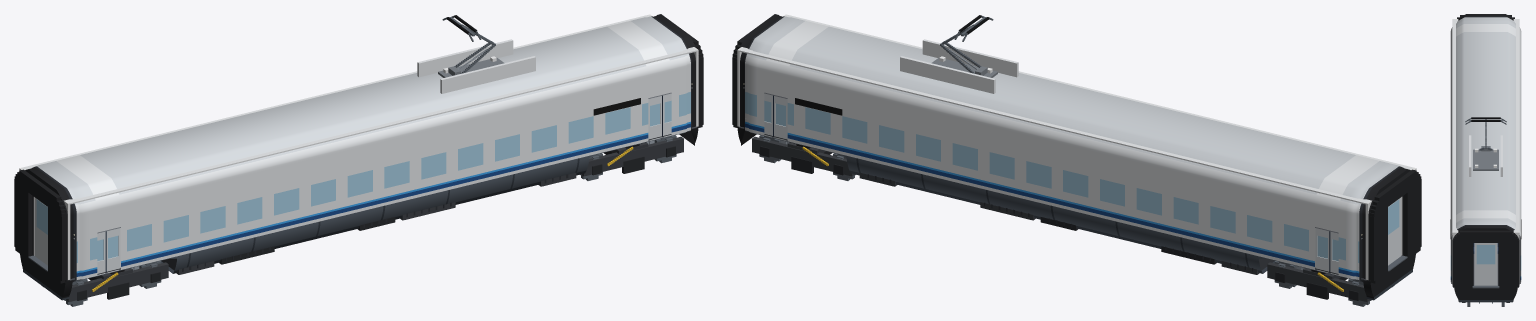
Rendered from avelia_car.obj.
3 views of the same model, side by side, from view 1: azimuth 30°, elevation 25°; view 2: azimuth 150°, elevation 25°; view 3: azimuth 270°, elevation 25° (orthographic). The views are drawn at different scales.
Parts seen in each view (by area): view 1: SHELL, SHELL_ceiling, SHELL_diaphragm, SHELL_pantograph, BOGEY_REAR, BOGEY_FRONT, FRAME, CONNECTING_DOOR_1_CG_CR_TOGGLE_TL_0.98_Z, SHELL_end, EXTERNAL_DOOR_10_CG_DR2_TOGGLE_TL_-0.44_X, EXTERNAL_DOOR_5_CG_DR1_TOGGLE_TL_0.44_X; view 2: SHELL, SHELL_ceiling, SHELL_diaphragm, SHELL_pantograph, BOGEY_REAR, BOGEY_FRONT, FRAME, CONNECTING_DOOR_1_CG_CR_TOGGLE_TL_0.98_Z, SHELL_end, EXTERNAL_DOOR_13_CG_DL2_TOGGLE_TL_-0.44_X, EXTERNAL_DOOR_8_CG_DL1_TOGGLE_TL_0.44_X; view 3: SHELL, SHELL_diaphragm, SHELL_ceiling, SHELL_pantograph, CONNECTING_DOOR_2_CG_CF_TOGGLE_TL_0.98_Z, SHELL_end, SHELL_floor, SHELL_gangway.
Part boxes in pixels (box(x1,y1,x2,y2)): SHELL: box(20, 15, 699, 300); SHELL_ceiling: box(22, 15, 696, 204); SHELL_diaphragm: box(14, 14, 703, 283); SHELL_pantograph: box(417, 15, 535, 93); BOGEY_REAR: box(66, 262, 168, 301); BOGEY_FRONT: box(581, 136, 683, 176); FRAME: box(75, 131, 689, 281); CONNECTING_DOOR_1_CG_CR_TOGGLE_TL_0.98_Z: box(35, 197, 47, 265); SHELL_end: box(19, 14, 698, 279); EXTERNAL_DOOR_10_CG_DR2_TOGGLE_TL_-0.44_X: box(648, 95, 662, 139); EXTERNAL_DOOR_5_CG_DR1_TOGGLE_TL_0.44_X: box(106, 228, 120, 271); SHELL: box(736, 15, 1415, 300); SHELL_ceiling: box(739, 15, 1413, 204); SHELL_diaphragm: box(732, 14, 1421, 283); SHELL_pantograph: box(900, 15, 1018, 93); BOGEY_REAR: box(1267, 262, 1369, 301); BOGEY_FRONT: box(752, 136, 854, 176); FRAME: box(746, 131, 1360, 281); CONNECTING_DOOR_1_CG_CR_TOGGLE_TL_0.98_Z: box(1388, 197, 1400, 265); SHELL_end: box(737, 14, 1416, 279); EXTERNAL_DOOR_13_CG_DL2_TOGGLE_TL_-0.44_X: box(773, 95, 787, 139); EXTERNAL_DOOR_8_CG_DL1_TOGGLE_TL_0.44_X: box(1315, 228, 1329, 271); SHELL: box(1450, 14, 1521, 302); SHELL_diaphragm: box(1453, 15, 1518, 289); SHELL_ceiling: box(1452, 19, 1519, 231); SHELL_pantograph: box(1465, 117, 1506, 176); CONNECTING_DOOR_2_CG_CF_TOGGLE_TL_0.98_Z: box(1474, 243, 1497, 285); SHELL_end: box(1452, 19, 1519, 285); SHELL_floor: box(1473, 254, 1498, 284); SHELL_gangway: box(1472, 285, 1499, 287).
Size of the model in its own units: 21.82 by 5.68 by 3.02.
1 material, 1 textured.
